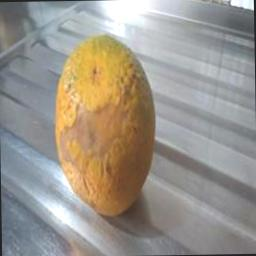Orange Unripe: (48, 52, 164, 223)
